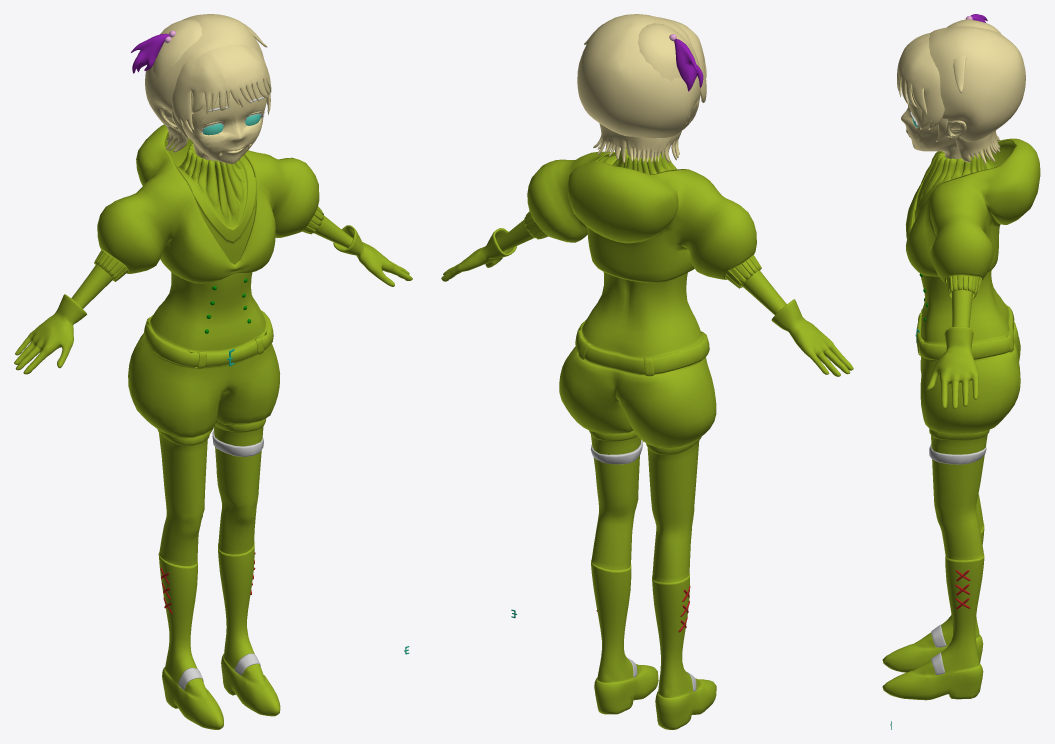
Rendered from juna_mayaIn.obj.
The picture shows the model from 3 angles, left to right: view 1: azimuth 30°, elevation 25°; view 2: azimuth 150°, elevation 25°; view 3: azimuth 270°, elevation 25°; orthographic projection. The views are drawn at different scales.
Parts seen in each view (by area): view 1: karada, te, mae_gami, face, object 9, object 10, Box002; view 2: karada, te, object 9, object 15, object 10, Box002; view 3: karada, te, object 9, mae_gami, face, object 15, object 16, object 17, object 21, object 10.
Part boxes in pixels (x1,y1,x2,y2): karada: (128,142,280,729); te: (14,124,412,374); mae_gami: (172,44,271,132); face: (160,85,266,163); object 9: (145,14,263,126); object 10: (153,19,201,77); Box002: (131,33,169,73); karada: (559,146,716,729); te: (441,151,853,376); object 9: (577,14,700,138); object 15: (593,123,682,163); object 10: (637,23,695,82); Box002: (674,39,703,91); karada: (882,150,1020,700); te: (906,138,1040,408); object 9: (929,26,1025,141); mae_gami: (897,33,944,129); face: (901,86,978,159); object 15: (955,130,1000,164); object 16: (929,444,986,464); object 17: (931,624,946,674); object 21: (953,55,966,92); object 10: (947,19,1000,33).
Size of the model in its own units: 79.71 by 131 by 28.63.
